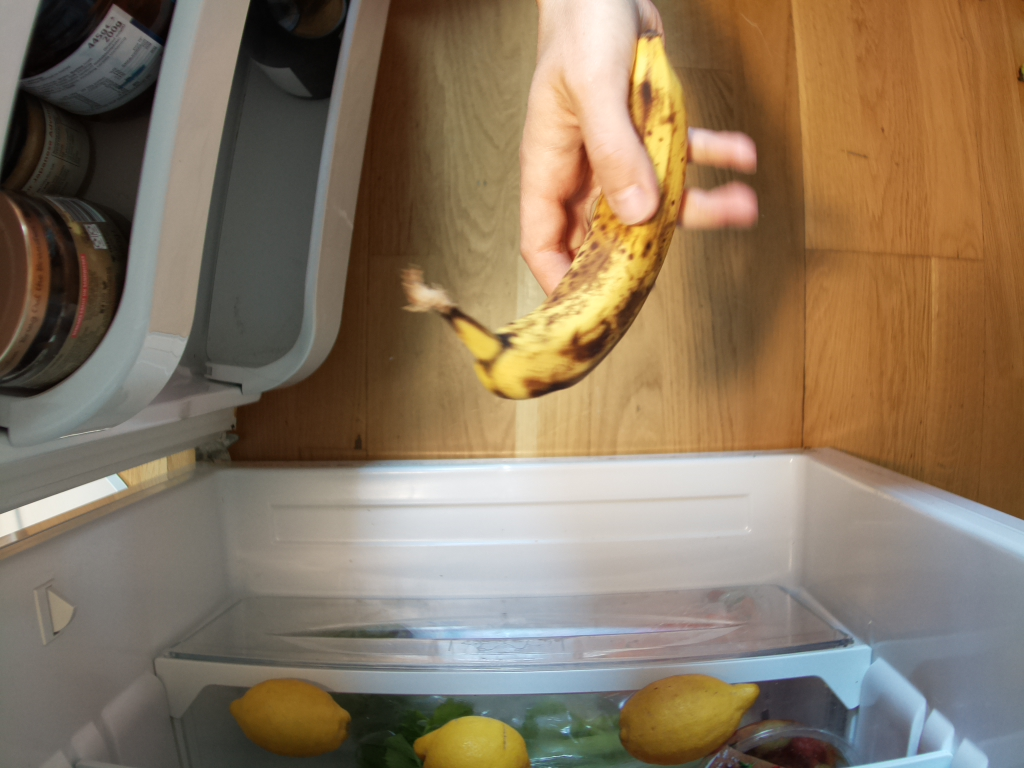banana-overripe: (408, 31, 689, 403)
